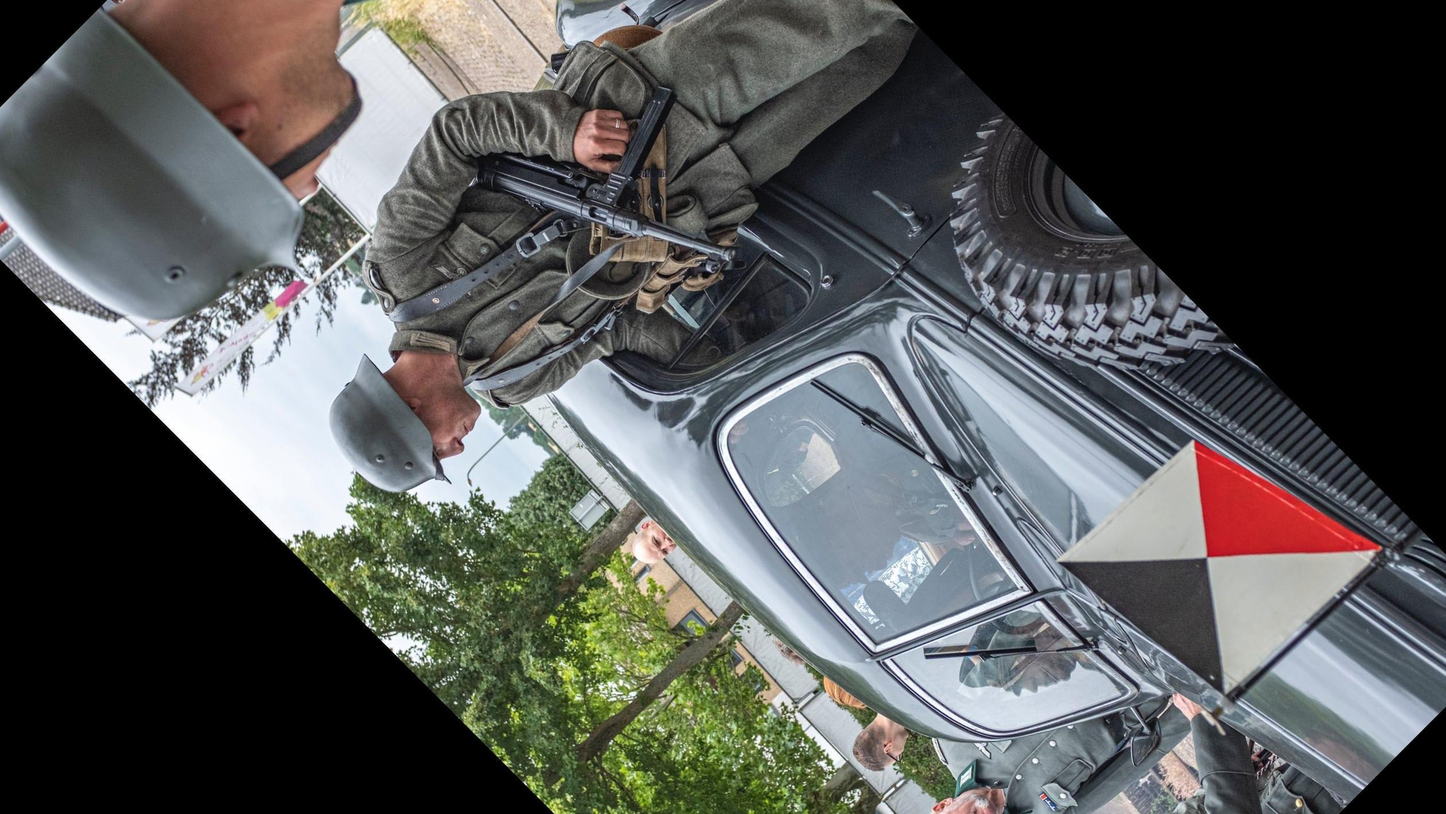gun: (7, 114, 222, 228), (25, 17, 231, 115)
knife: (7, 60, 123, 111)
